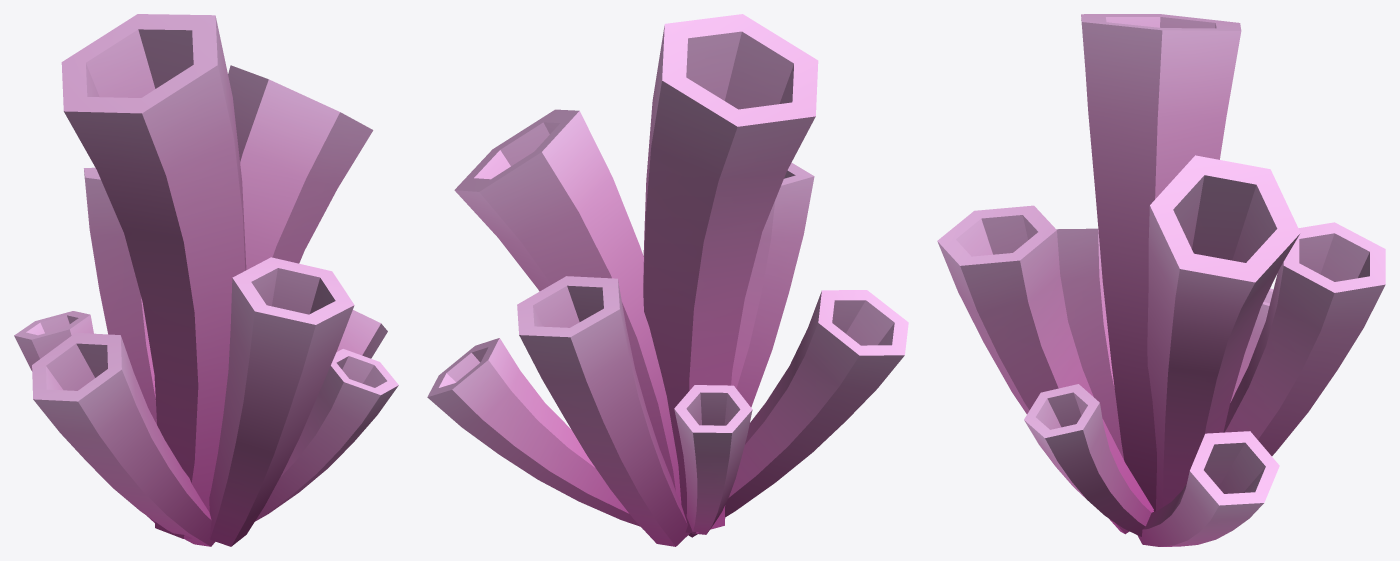
Rendered from Coral Type 1.fbx.
3 renders of one model, left to right at view 1: azimuth 30°, elevation 25°; view 2: azimuth 150°, elevation 25°; view 3: azimuth 270°, elevation 25°, orthographic. The views are drawn at different scales.
Visible parts, largest first — view 1: pCylinder11; view 2: pCylinder11; view 3: pCylinder11.
Part boxes in pixels (x1,y1,x2,y2): pCylinder11: (14, 14, 398, 546); pCylinder11: (427, 14, 908, 546); pCylinder11: (937, 14, 1385, 546).
Size of the model in its own units: 3.81 by 4.59 by 3.64.
